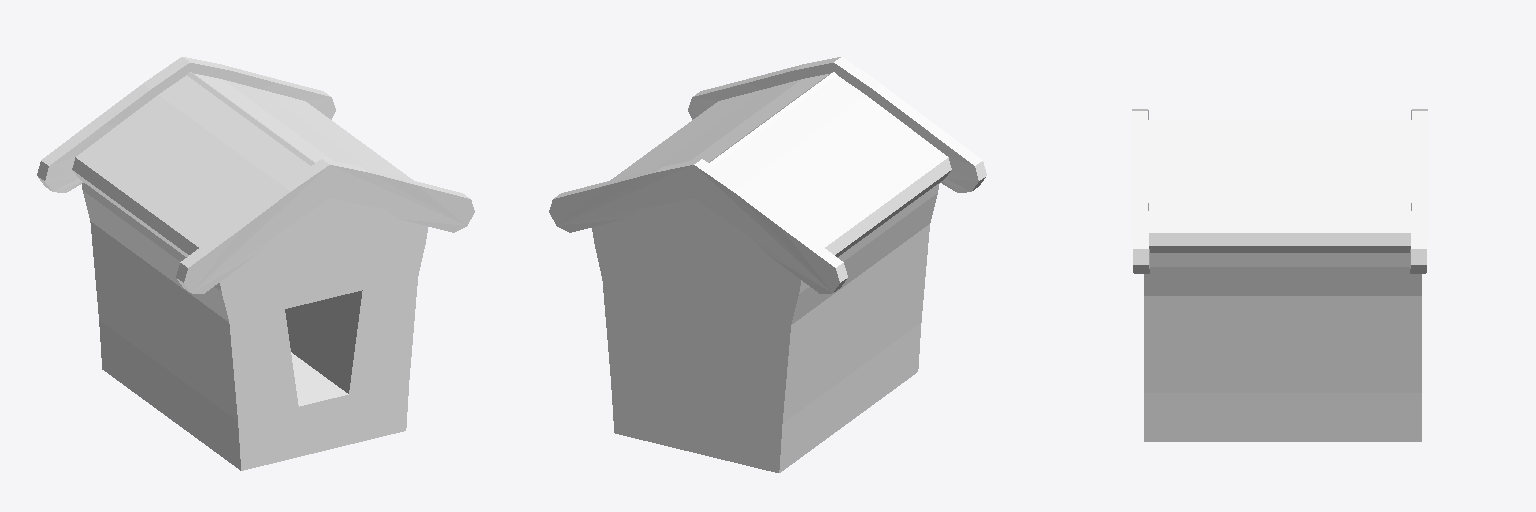
Rendered from Cucciav2.obj.
3 renders of one model, left to right at view 1: azimuth 30°, elevation 25°; view 2: azimuth 150°, elevation 25°; view 3: azimuth 270°, elevation 25°, orthographic.
Parts seen in each view (by area): view 1: Cuccia_Plane.001; view 2: Cuccia_Plane.001; view 3: Cuccia_Plane.001.
Boxes of the visible parts, x1,y1,x2,y2 form: Cuccia_Plane.001: [37, 57, 474, 470]; Cuccia_Plane.001: [549, 57, 986, 472]; Cuccia_Plane.001: [1132, 109, 1427, 441].
Size of the model in its own units: 6.05 by 5.77 by 5.32.